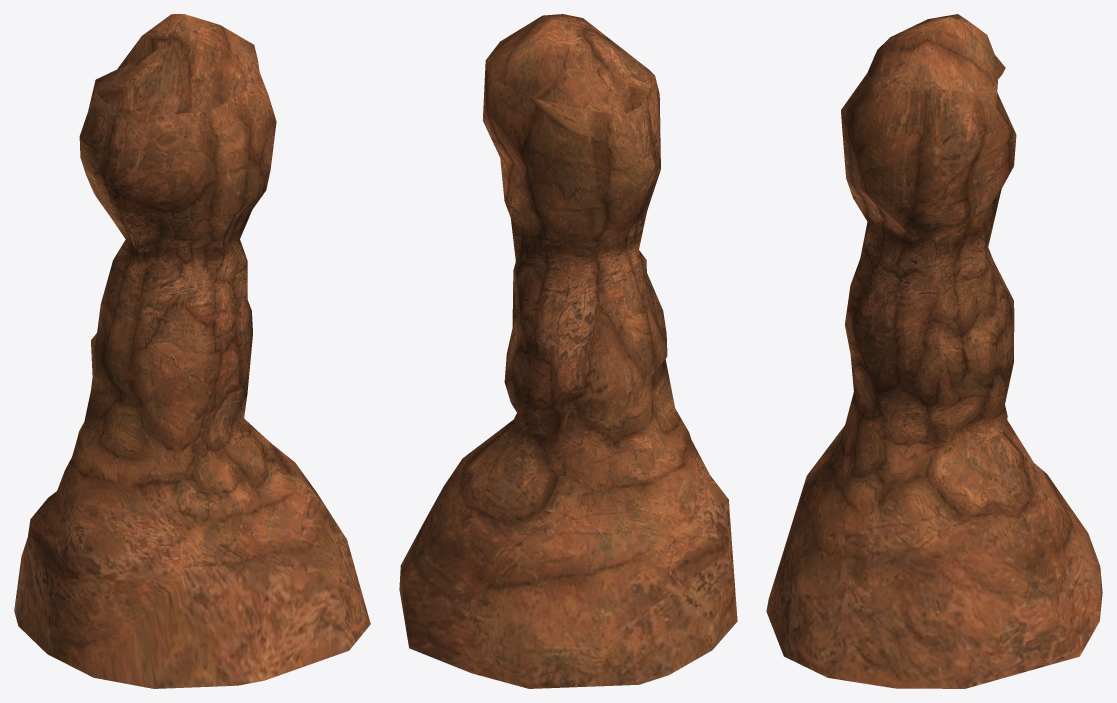
Rendered from poi_tato_sacred_pinnacle_l1.fbx.
3 renders of one model, left to right at view 1: azimuth 30°, elevation 25°; view 2: azimuth 150°, elevation 25°; view 3: azimuth 270°, elevation 25°, orthographic.
Visible parts, largest first — view 1: mesh_node; view 2: mesh_node; view 3: mesh_node.
Boxes of the visible parts, x1,y1,x2,y2 form: mesh_node: (14,14,370,688); mesh_node: (399,14,737,688); mesh_node: (766,14,1102,688).
Bounding box in the file's own units: 103 × 199 × 101.
